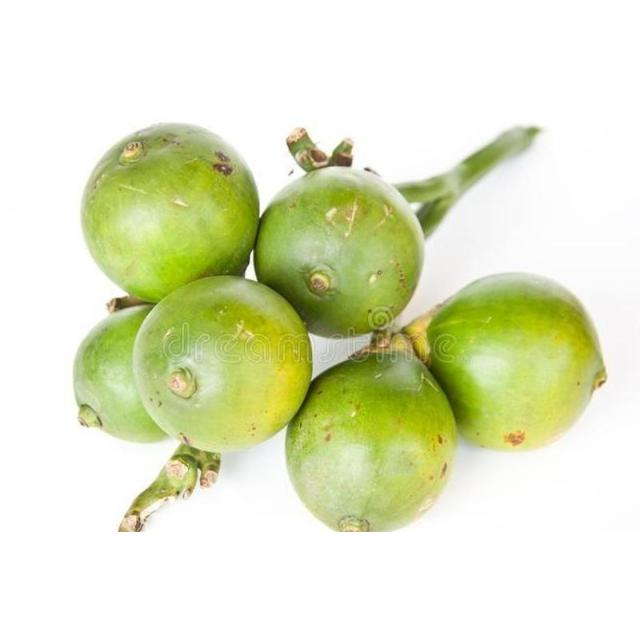good: (424, 273, 608, 451), (286, 342, 458, 532), (80, 122, 258, 302), (133, 276, 311, 452), (255, 158, 422, 338), (72, 303, 172, 443)
